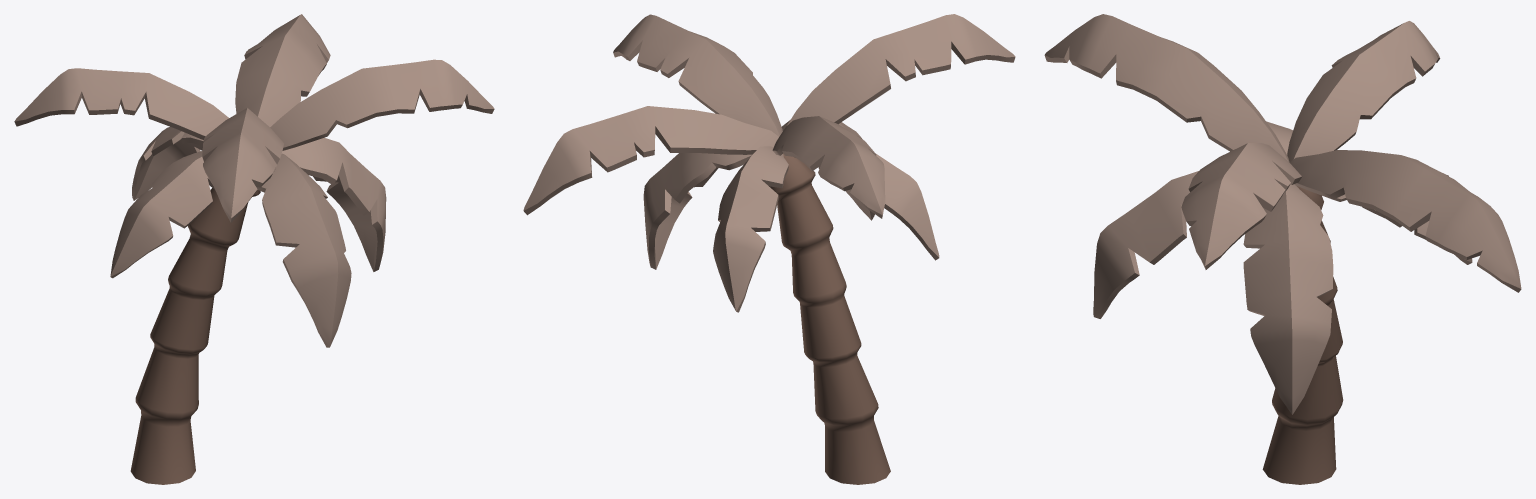
File: palmera2.glb
3 views of the same model, side by side, from view 1: azimuth 30°, elevation 25°; view 2: azimuth 150°, elevation 25°; view 3: azimuth 270°, elevation 25° (orthographic). The views are drawn at different scales.
Parts seen in each view (by area): view 1: Environment_PalmTree_2; view 2: Environment_PalmTree_2; view 3: Environment_PalmTree_2.
Part boxes in pixels (x1=…): Environment_PalmTree_2: x1=14, y1=14, x2=494, y2=484; Environment_PalmTree_2: x1=523, y1=14, x2=1015, y2=484; Environment_PalmTree_2: x1=1044, y1=14, x2=1521, y2=484.
Bounding box in the file's own units: 2.64 × 2.69 × 2.58.
Materials: 1 (1 with a texture image).
